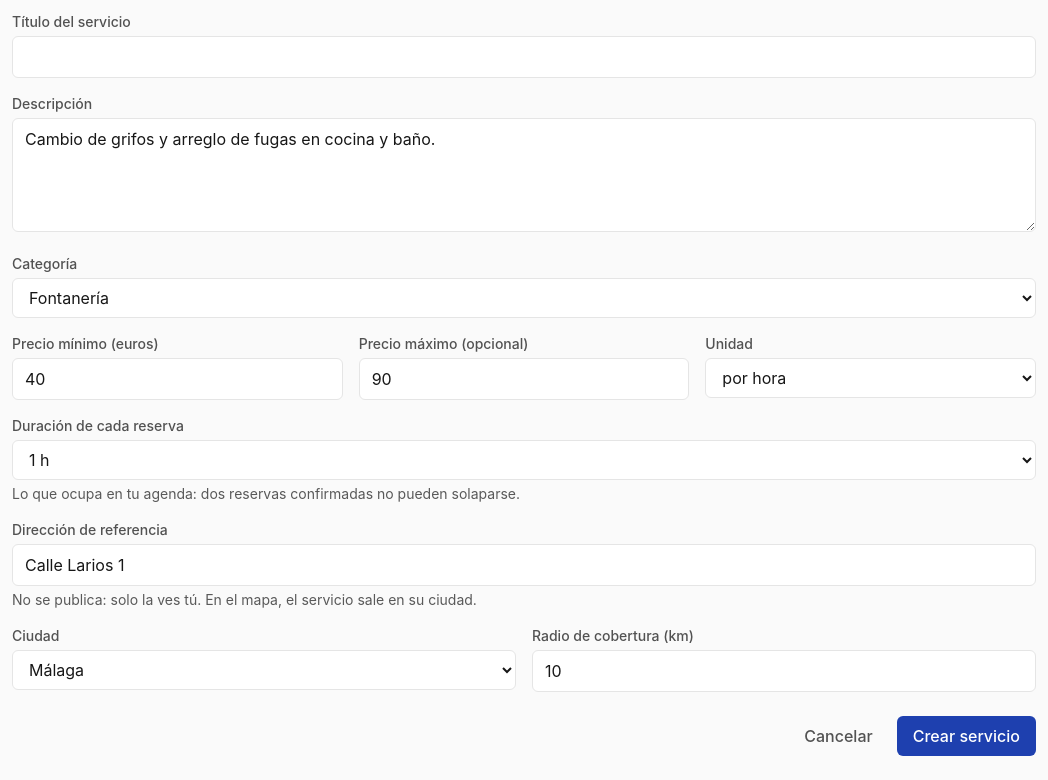
Test case: ServiceForm › lo que falta o no vale › al escribir, el aviso de ese campo se va
The image size is (1048, 780).
Submit the form named "Crear servicio"
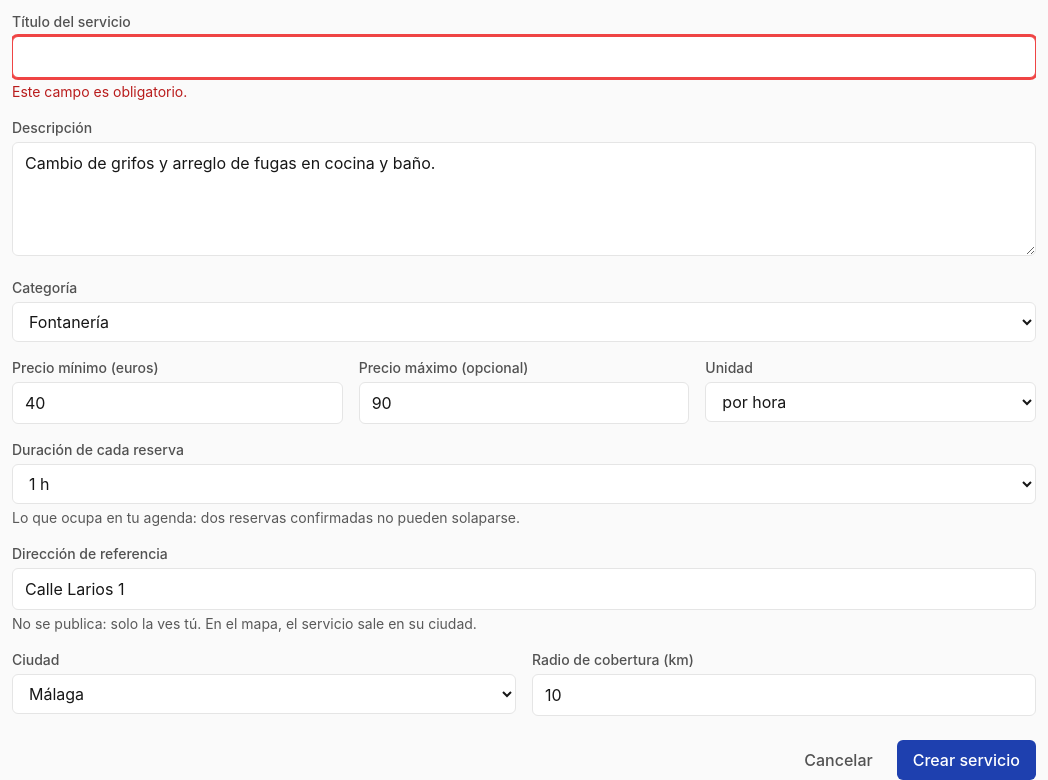
In the field labelled "Título del servicio": (524, 57) [12,36,1036,78], type "Grifos"
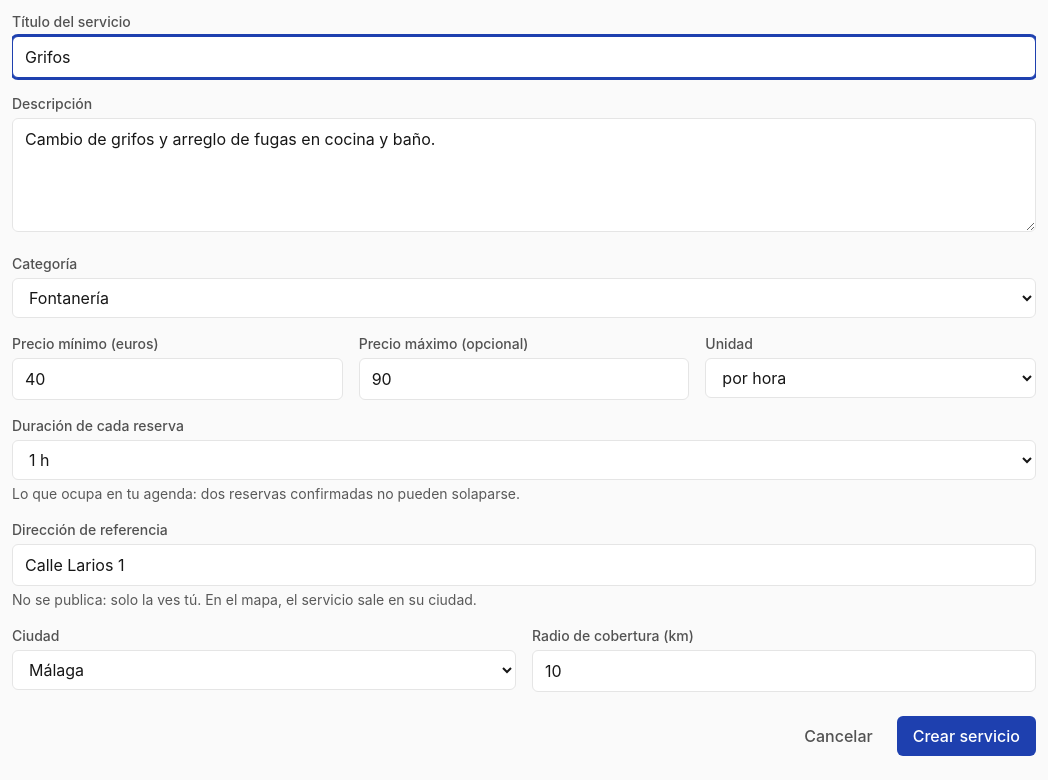
Now the text "Este campo es obligatorio." is gone
